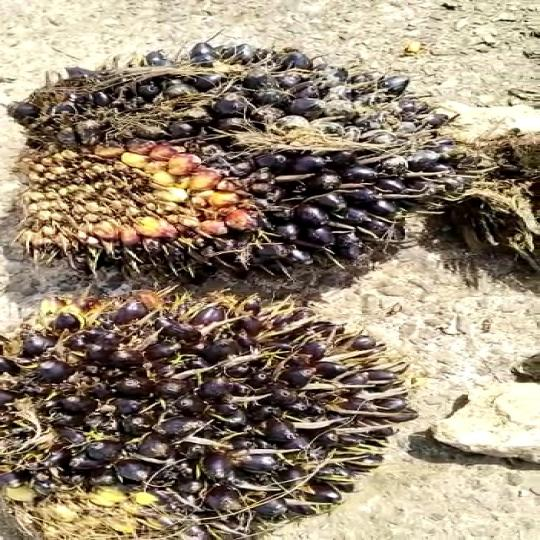mentah: (5, 45, 480, 282), (0, 290, 419, 540)
